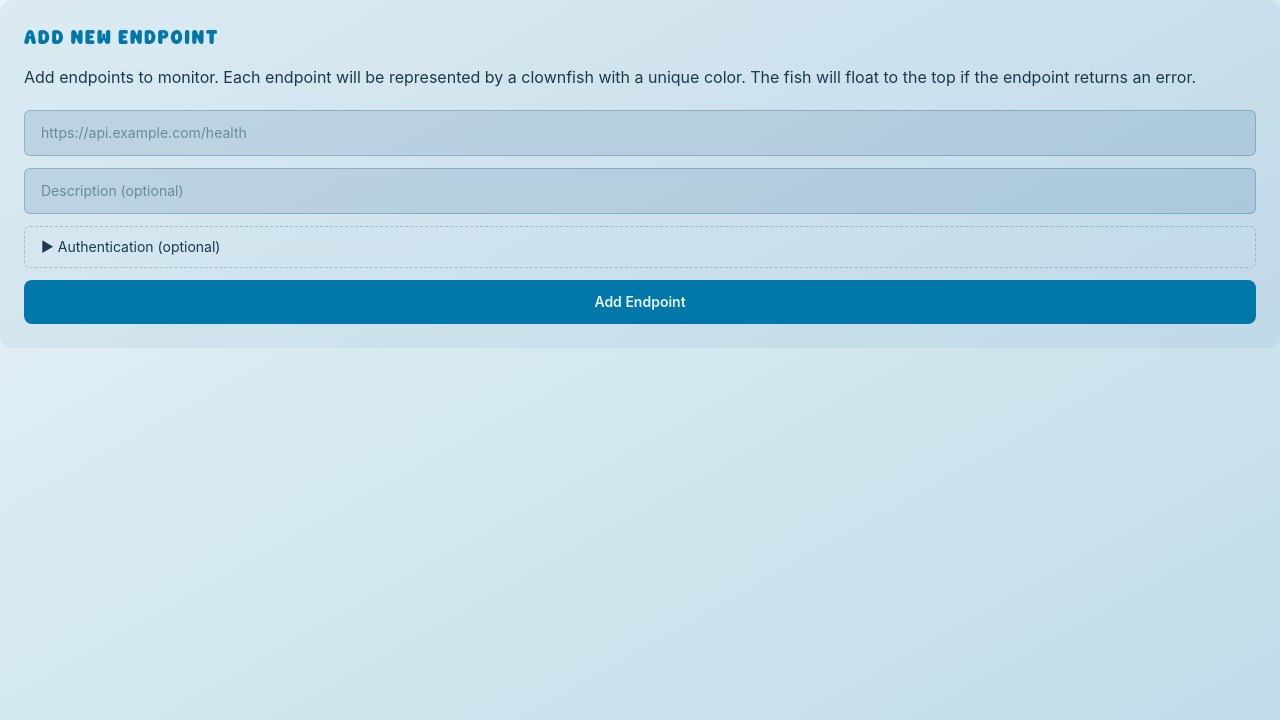
Test case: AddEndpointForm › shows bearer token field when Bearer Token is selected
Click the button "▶ Authentication (optional)". click: x=137, y=246
box: [24, 226, 1256, 268]
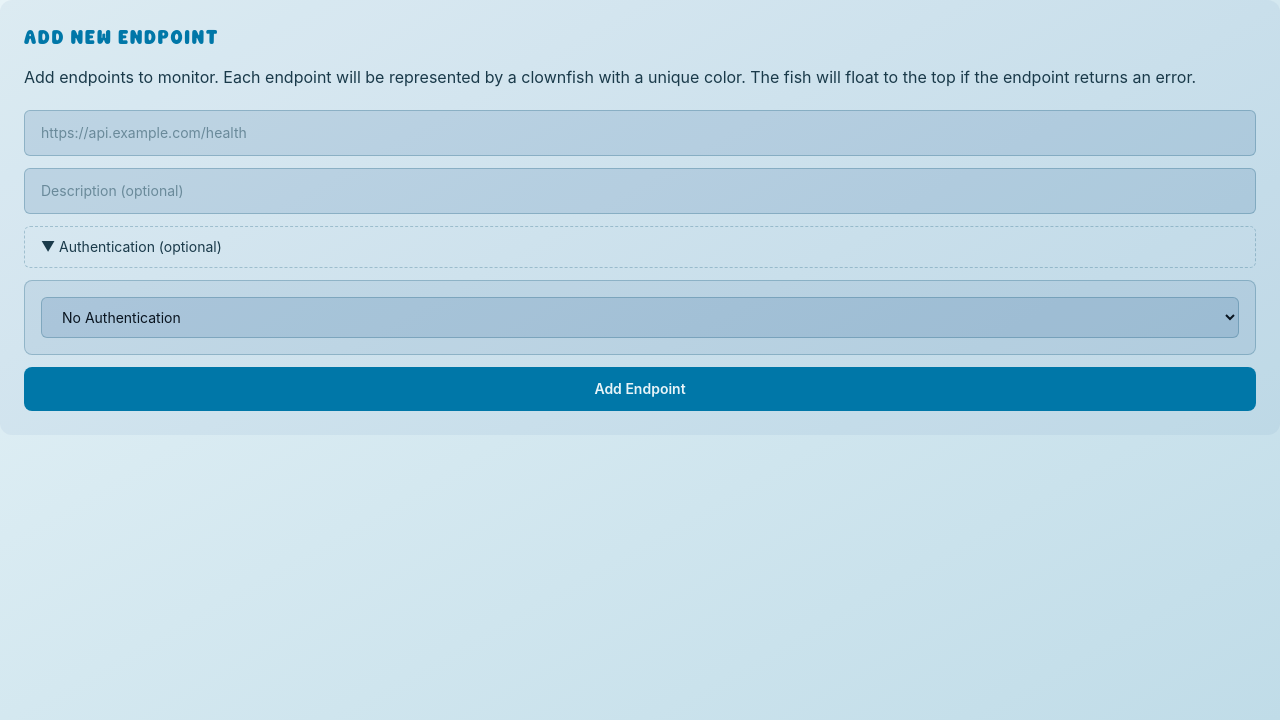
Select "Bearer Token" in the dropdown. click: x=640, y=318
box: [41, 297, 1239, 338]
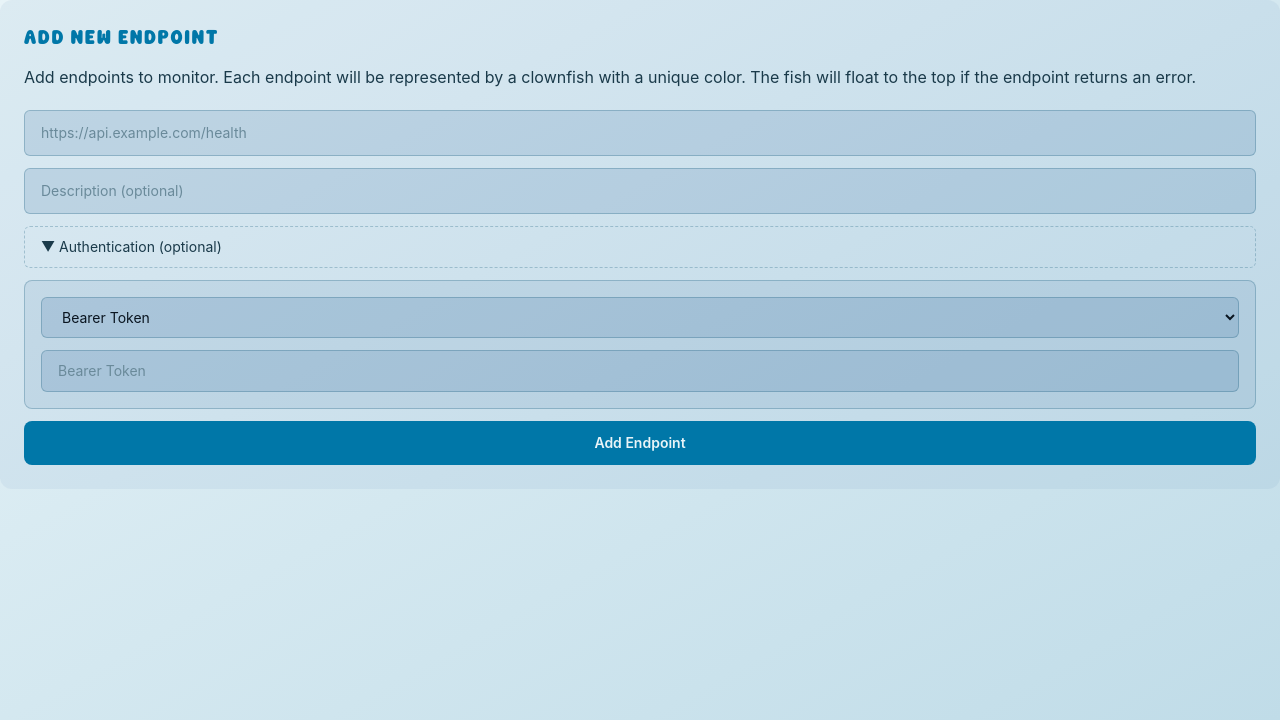
Now the password field with placeholder "Bearer Token" is shown, box [41, 350, 1239, 392]
